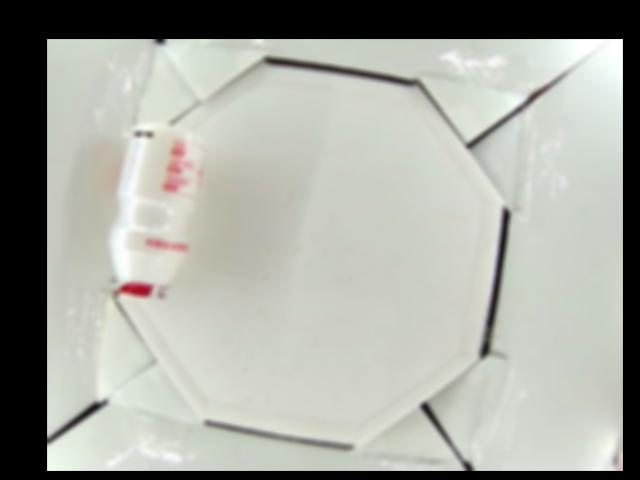Bottle: (109, 123, 209, 297)
